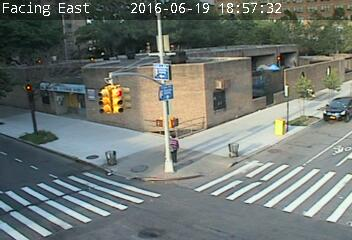neg: (148, 138, 169, 166), (187, 168, 204, 190), (161, 168, 176, 188)
pos: (159, 130, 187, 167)
